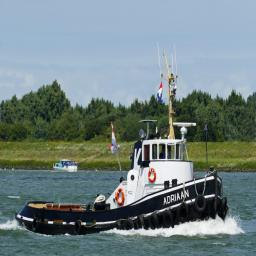tugboat: (14, 41, 234, 241)
